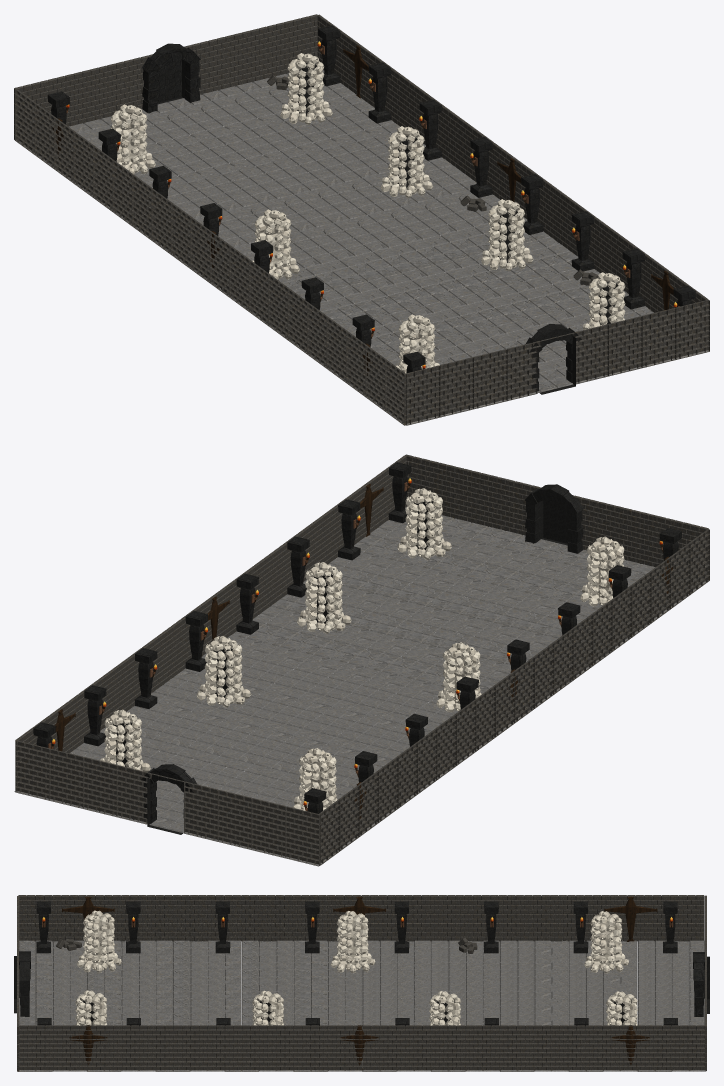
File: Mazmorra.fbx
The picture shows the model from 3 angles, top to bottom: view 1: azimuth 30°, elevation 25°; view 2: azimuth 150°, elevation 25°; view 3: azimuth 270°, elevation 25°; orthographic projection. The views are drawn at different scales.
Visible parts, largest first — view 1: Piso1B, Piso2B, Piso1A, Piso2A, WallS, Pilares, WallN, WallW1, WallW2, Fila de esqueletos, WallE2, WallE1 (+5 smaller); view 2: Piso1A, Piso2A, Piso1B, Piso2B, WallN, Pilares, WallW2, WallW1, WallS, Fila de esqueletos, WallE1, WallE2 (+5 smaller); view 3: WallE2, WallE1, Piso1B, WallW2, Piso1A, Piso2A, WallW1, Piso2B, Pilares, Fila2 de es queletos, Fila de esqueletos, CrucesA (+6 smaller).
Boxes of the visible parts, x1,y1,x2,y2 form: Piso1B: (36, 83, 499, 281); Piso2B: (16, 70, 477, 267); Piso1A: (211, 214, 648, 409); Piso2A: (230, 231, 708, 424); WallS: (406, 299, 709, 425); Pilares: (47, 25, 695, 372); WallN: (14, 14, 317, 139); WallW1: (209, 231, 405, 425); WallW2: (15, 89, 211, 282); Fila de esqueletos: (280, 53, 625, 329); WallE2: (317, 14, 513, 200); WallE1: (512, 157, 708, 350); Piso1A: (227, 520, 688, 723); Piso2A: (232, 506, 708, 708); Piso1B: (75, 653, 513, 851); Piso2B: (14, 668, 493, 865); WallN: (15, 740, 320, 866); Pilares: (33, 462, 681, 813); WallW2: (319, 671, 515, 865); WallW1: (513, 529, 709, 722); WallS: (405, 454, 708, 579); Fila de esqueletos: (100, 488, 451, 772); WallE1: (210, 455, 406, 641); WallE2: (15, 598, 211, 791); WallE2: (362, 1025, 705, 1071); WallE1: (19, 1025, 362, 1071); Piso1B: (362, 940, 671, 1071); WallW2: (361, 895, 704, 941); Piso1A: (52, 940, 362, 1071); Piso2A: (18, 940, 327, 1071); WallW1: (18, 895, 361, 941); Piso2B: (396, 940, 706, 1071); Pilares: (36, 901, 677, 1025); Fila2 de es queletos: (77, 910, 628, 973); Fila de esqueletos: (75, 990, 637, 1025); CrucesA: (62, 896, 657, 941).
Bounding box in the file's own units: 1902 × 381 × 4259.
7 materials, 7 textured.
